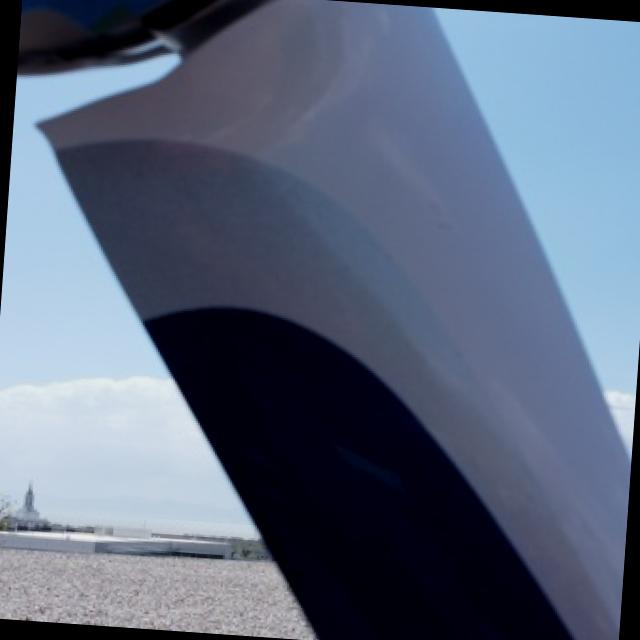healthy: (0, 0, 629, 640)
